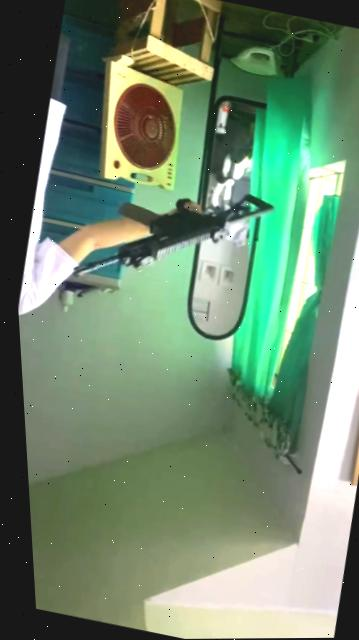rifle: (62, 151, 280, 327)
